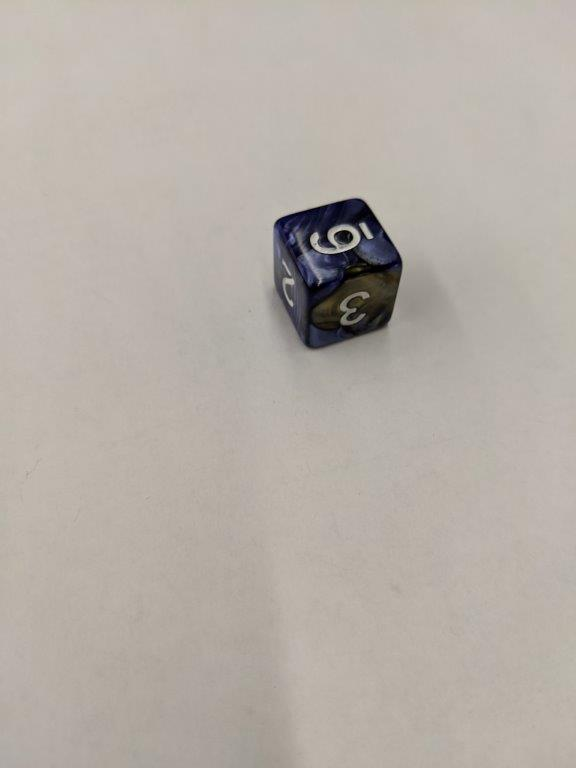d6-6: (271, 197, 402, 348)
